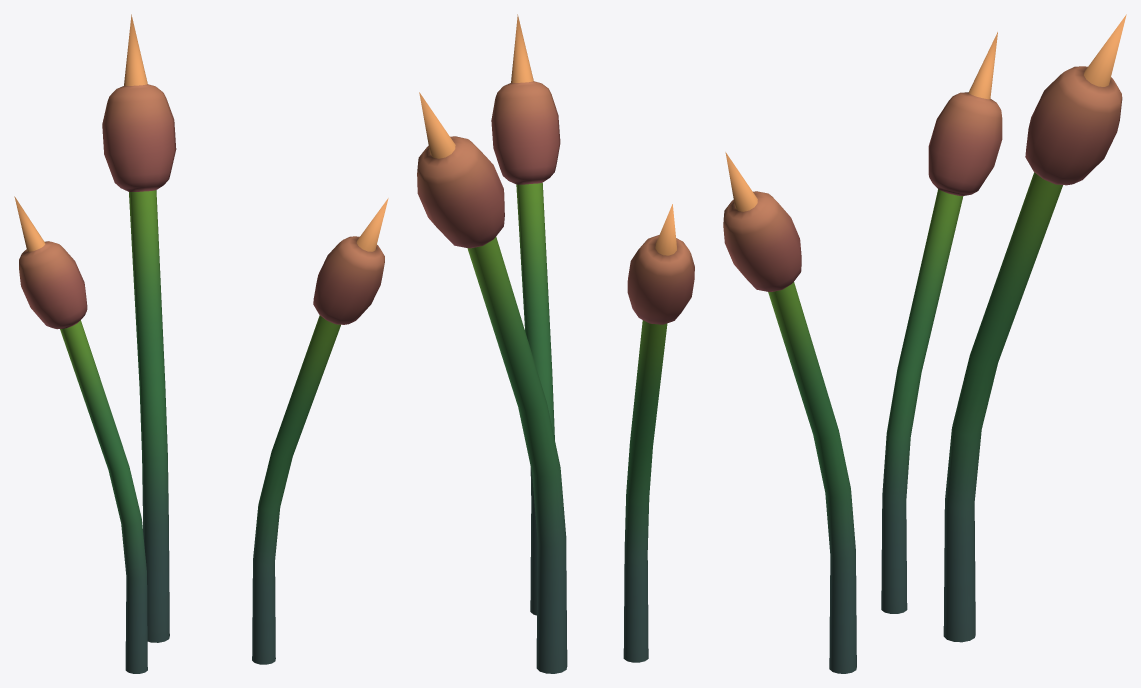
Rendered from Plants_010.fbx.
The picture shows the model from 3 angles, left to right: view 1: azimuth 30°, elevation 25°; view 2: azimuth 150°, elevation 25°; view 3: azimuth 270°, elevation 25°; orthographic projection. The views are drawn at different scales.
Visible parts, largest first — view 1: Plants.010; view 2: Plants.010; view 3: Plants.010.
Part boxes in pixels (bbox=[...]): Plants.010: bbox=[14, 14, 388, 673]; Plants.010: bbox=[417, 14, 694, 673]; Plants.010: bbox=[723, 14, 1126, 673].
Bounding box in the file's own units: 239 × 482 × 272.
